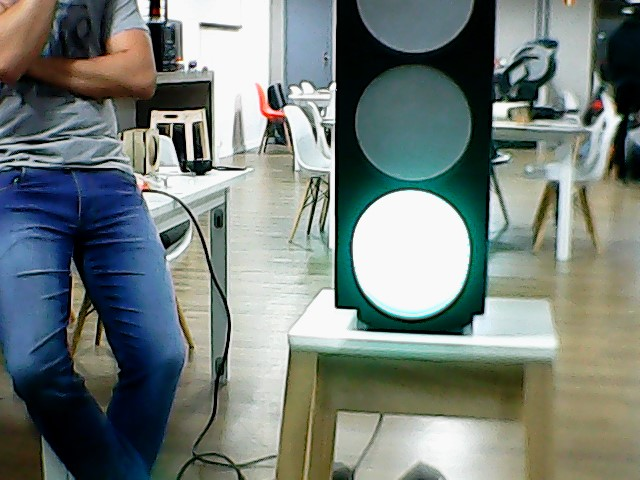verde: (329, 1, 500, 319)
